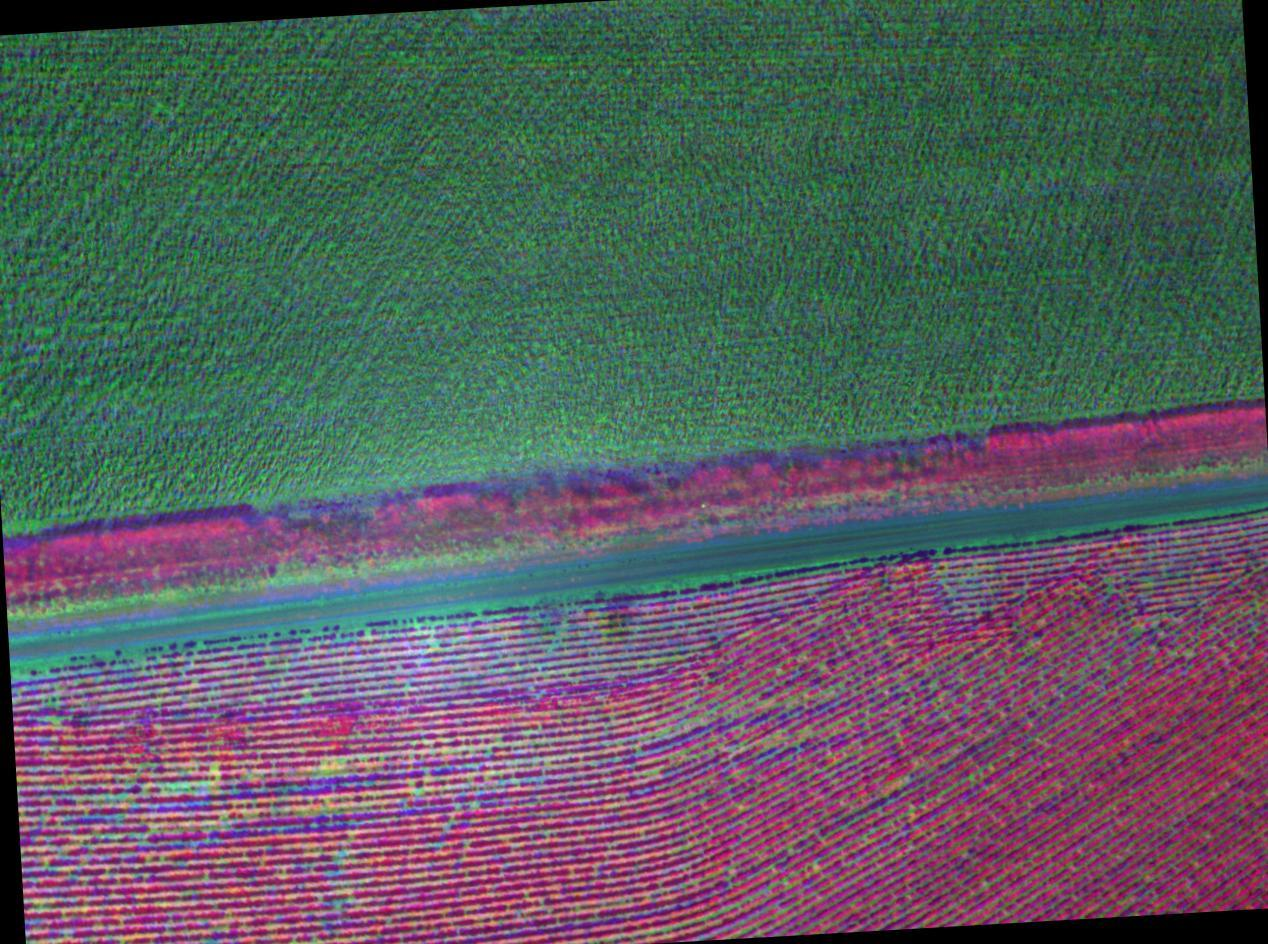dc: (305, 725, 485, 801), (575, 571, 673, 678), (101, 761, 239, 818)
